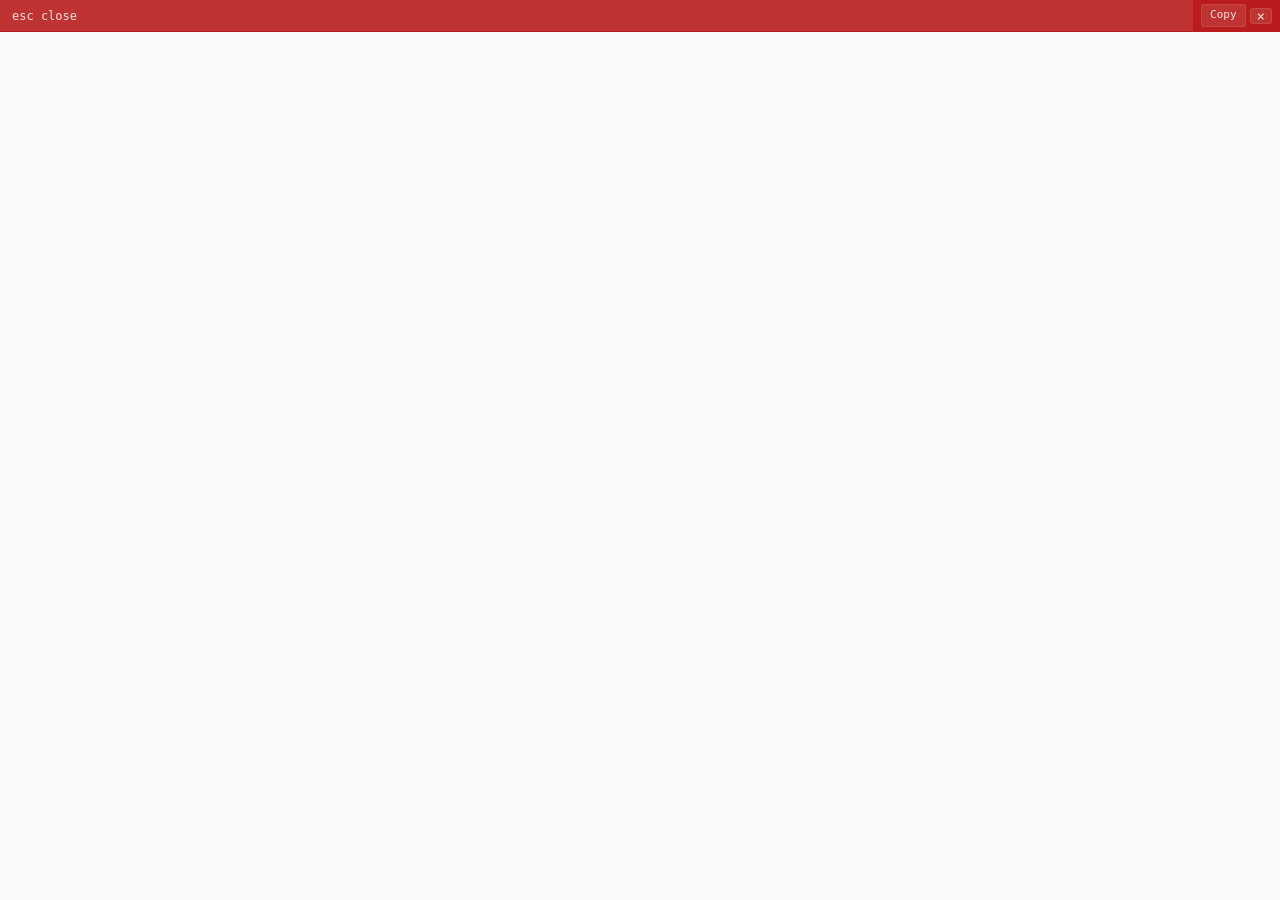
Test: ErrorBanner (Sprint 13+) › Escape key closes the viewer
This screenshot has width=1280, height=900.
Click the button with test id "error-banner-message" at (45, 16), box 0,0 -> 1193,31
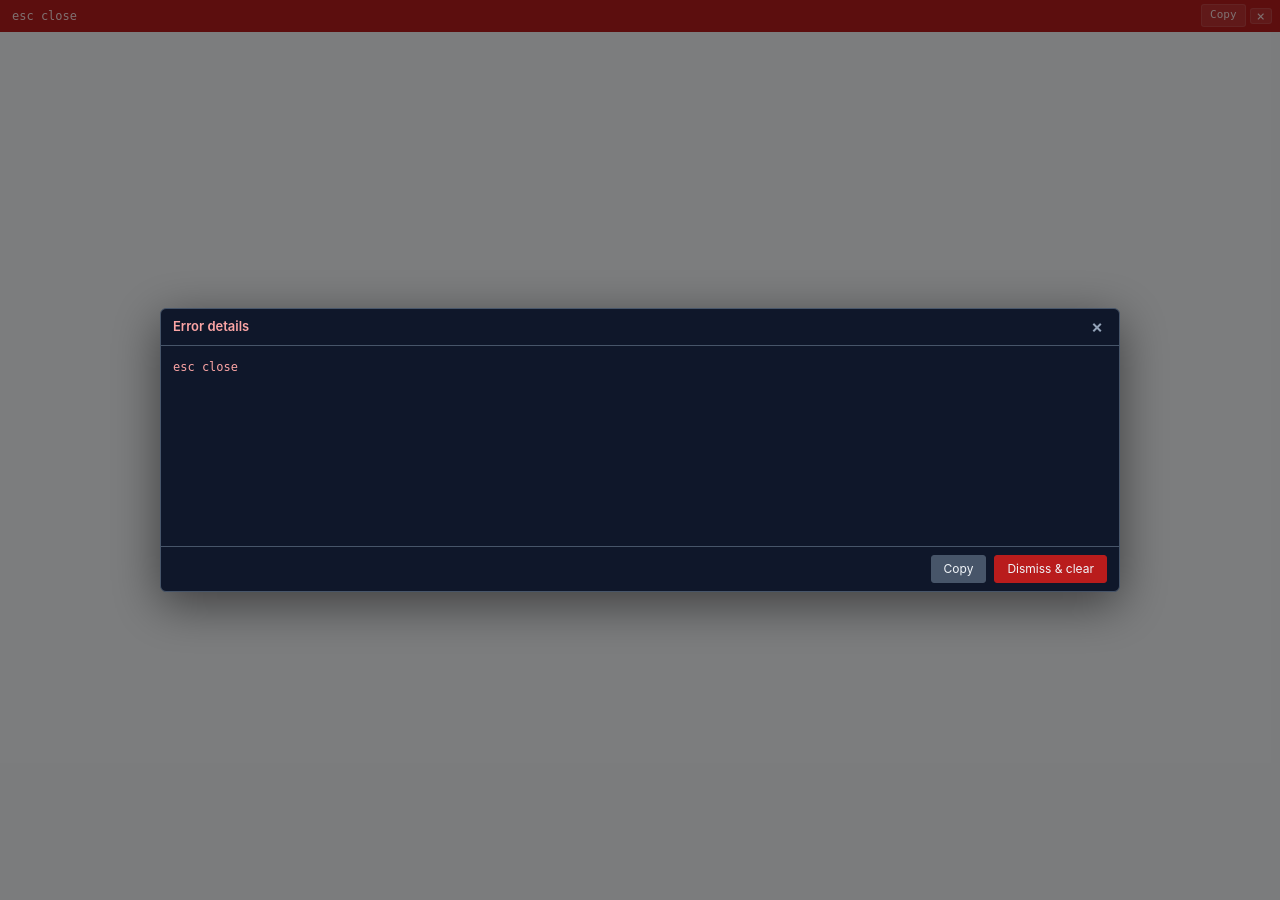
Check: the dialog with test id "error-viewer-overlay" is shown
Press Escape
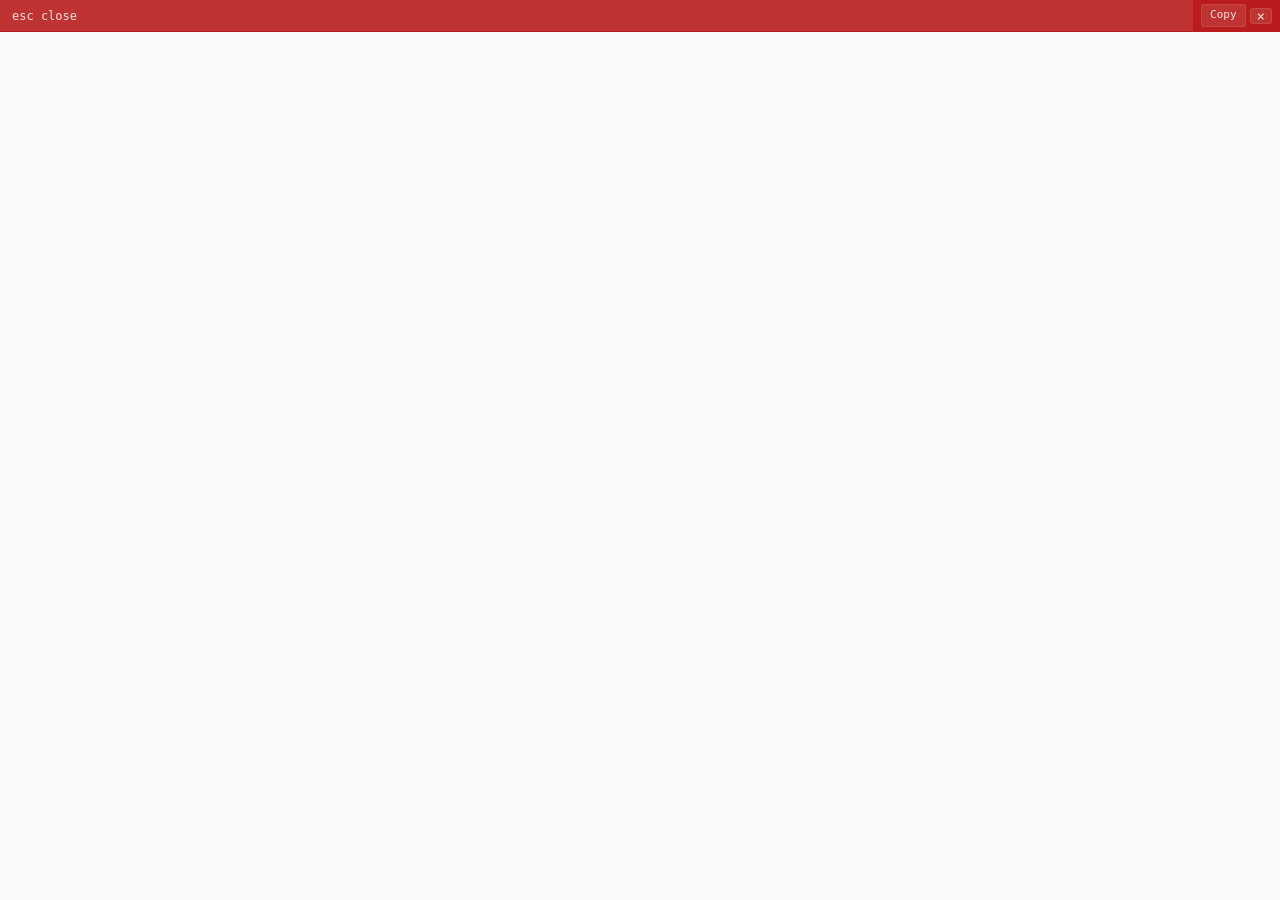
Check: the dialog with test id "error-viewer-overlay" is gone
